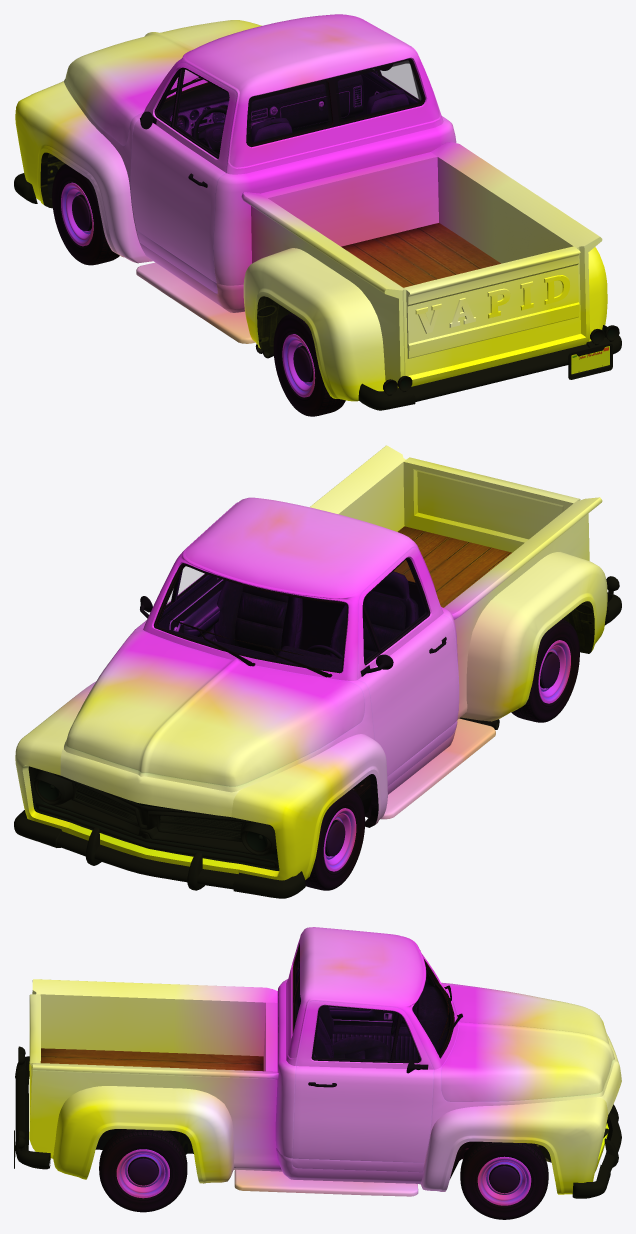
The model's file is slamvan.glb.
3 renders of one model, top to bottom at view 1: azimuth 30°, elevation 25°; view 2: azimuth 150°, elevation 25°; view 3: azimuth 270°, elevation 25°, orthographic. The views are drawn at different scales.
Visible parts, largest first — view 1: bodyshell, door_dside_f, boot, wing_lf, bonnet, chassis, windscreen_r, bumper_r, wheel_lr, wheel_lf, window_lf, door_pside_f (+1 smaller); view 2: bodyshell, bonnet, door_dside_f, chassis, wing_lf, boot, bumper_f, wheel_lr, wheel_lf, wing_rf, window_lf, door_pside_f; view 3: bodyshell, door_pside_f, bonnet, wing_rf, wheel_rr, wheel_rf, chassis, window_rf, door_dside_f, bumper_r, bumper_f, boot (+1 smaller).
Part boxes in pixels (x1,y1,x2,y2): bodyshell: (62, 14, 607, 401); door_dside_f: (130, 62, 236, 293); boot: (404, 246, 580, 358); wing_lf: (15, 81, 152, 263); bonnet: (65, 20, 261, 145); chassis: (47, 60, 424, 184); windscreen_r: (247, 60, 423, 144); bumper_r: (358, 325, 621, 410); wheel_lr: (273, 313, 345, 416); wheel_lf: (52, 164, 119, 265); window_lf: (174, 70, 228, 155); door_pside_f: (355, 67, 449, 121); bodyshell: (28, 445, 607, 873); bonnet: (65, 631, 364, 786); door_dside_f: (357, 547, 458, 786); chassis: (155, 564, 424, 813); wing_lf: (231, 734, 387, 880); boot: (403, 457, 580, 552); bumper_f: (14, 810, 305, 898); wheel_lr: (511, 619, 579, 722); wheel_lf: (305, 789, 365, 890); wing_rf: (15, 681, 95, 833); window_lf: (364, 560, 427, 649); door_pside_f: (136, 551, 225, 641); bodyshell: (29, 927, 621, 1196); door_pside_f: (292, 1000, 433, 1172); bonnet: (441, 982, 614, 1101); wing_rf: (420, 1097, 607, 1194); wheel_rr: (99, 1129, 187, 1212); wheel_rf: (460, 1141, 548, 1219); chassis: (292, 944, 551, 1178); window_rf: (314, 1007, 397, 1060); door_dside_f: (296, 966, 433, 1059); bumper_r: (14, 1046, 50, 1169); bumper_f: (572, 1104, 621, 1198); boot: (29, 994, 40, 1098).
Size of the model in its own units: 2.14 by 1.88 by 4.83.
Materials: 16 (16 with a texture image).
